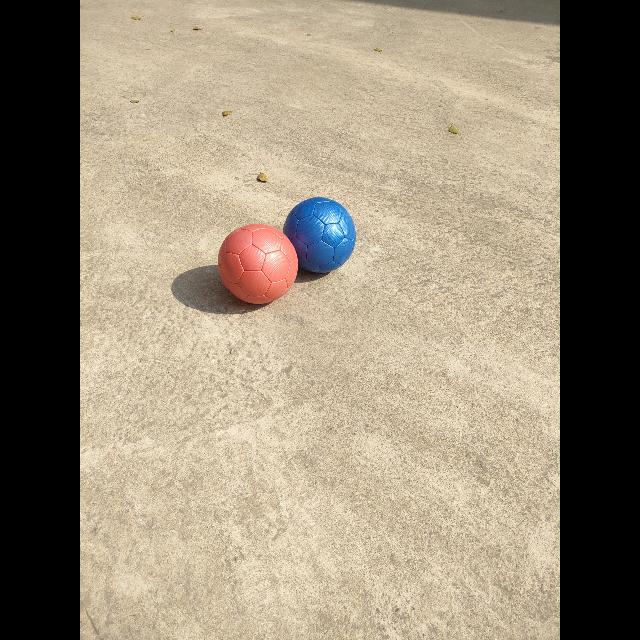B: (283, 197, 356, 273)
R: (218, 224, 298, 304)
